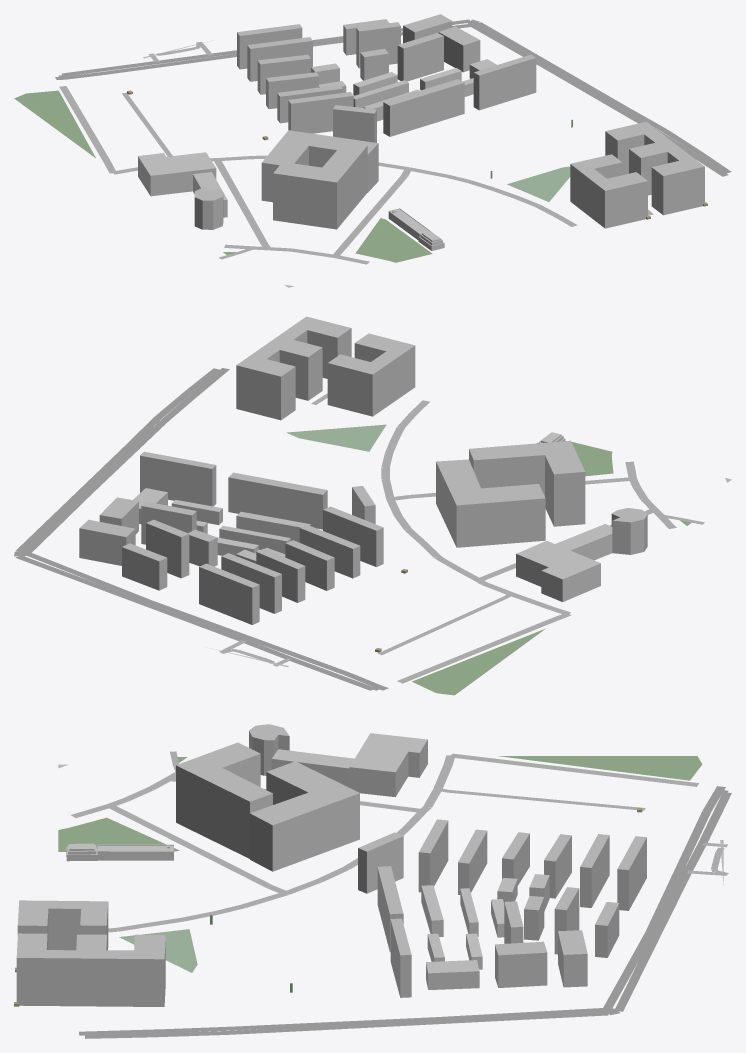
The picture shows the model from 3 angles, top to bottom: view 1: azimuth 30°, elevation 25°; view 2: azimuth 150°, elevation 25°; view 3: azimuth 270°, elevation 25°; orthographic projection. The views are drawn at different scales.
Size of the model in its own units: 505 by 50.12 by 540.
